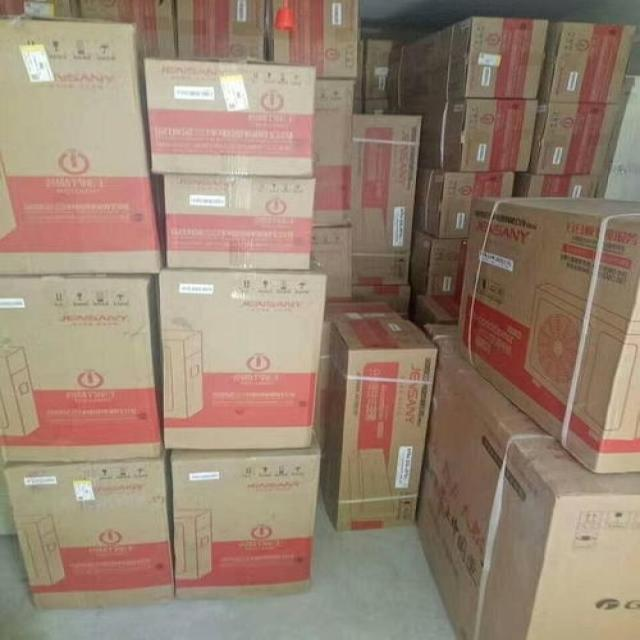box: (413, 324, 640, 640), (457, 197, 640, 475), (0, 16, 165, 276), (157, 253, 328, 449), (0, 275, 161, 462), (0, 460, 174, 610), (170, 437, 323, 600), (321, 320, 438, 533), (143, 58, 316, 178), (388, 13, 549, 112), (163, 174, 315, 270), (352, 113, 421, 285), (392, 98, 539, 172), (538, 22, 637, 104), (415, 167, 516, 238), (268, 0, 358, 79), (312, 80, 356, 226), (529, 103, 618, 174), (174, 0, 265, 60), (312, 226, 351, 298), (516, 172, 596, 197)
